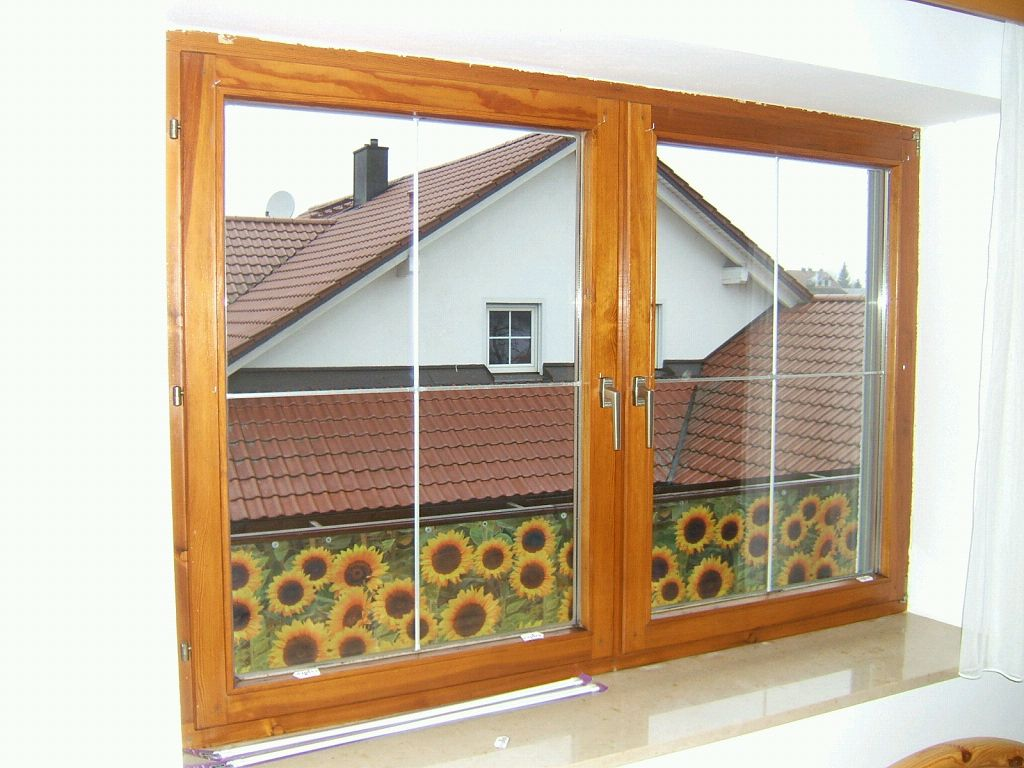windows: (188, 56, 921, 672)
